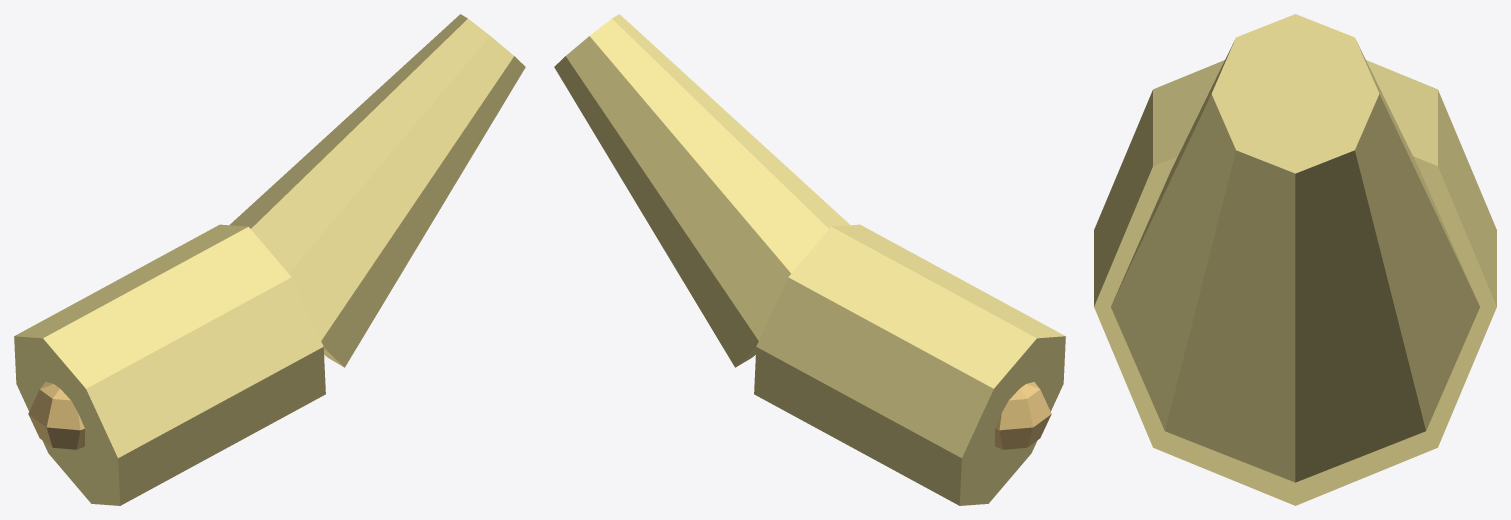
The model's file is banana_boost.glb.
3 renders of one model, left to right at view 1: azimuth 30°, elevation 25°; view 2: azimuth 150°, elevation 25°; view 3: azimuth 270°, elevation 25°, orthographic. The views are drawn at different scales.
Parts seen in each view (by area): view 1: banana_boost; view 2: banana_boost; view 3: banana_boost.
Part boxes in pixels (x1,y1,x2,y2): banana_boost: [14, 14, 525, 505]; banana_boost: [554, 14, 1065, 505]; banana_boost: [1094, 14, 1496, 505].
Size of the model in its own units: 0.6547 by 0.5119 by 0.24.
